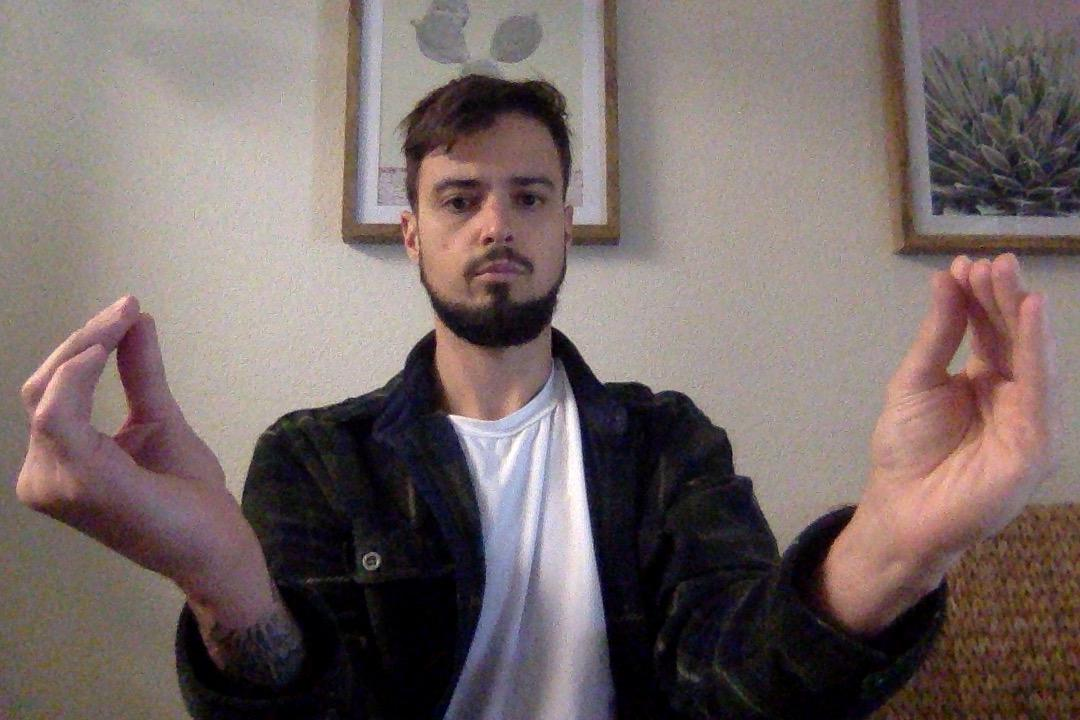Italian-Gesture: (849, 254, 1058, 585), (16, 295, 238, 606)
